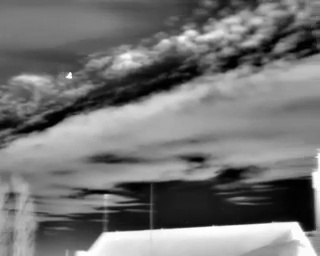BIRD: (63, 69, 75, 82)
